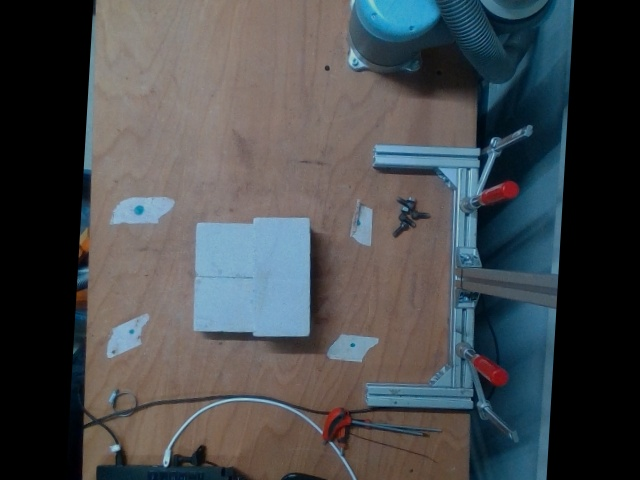brick: (250, 217, 310, 336)
